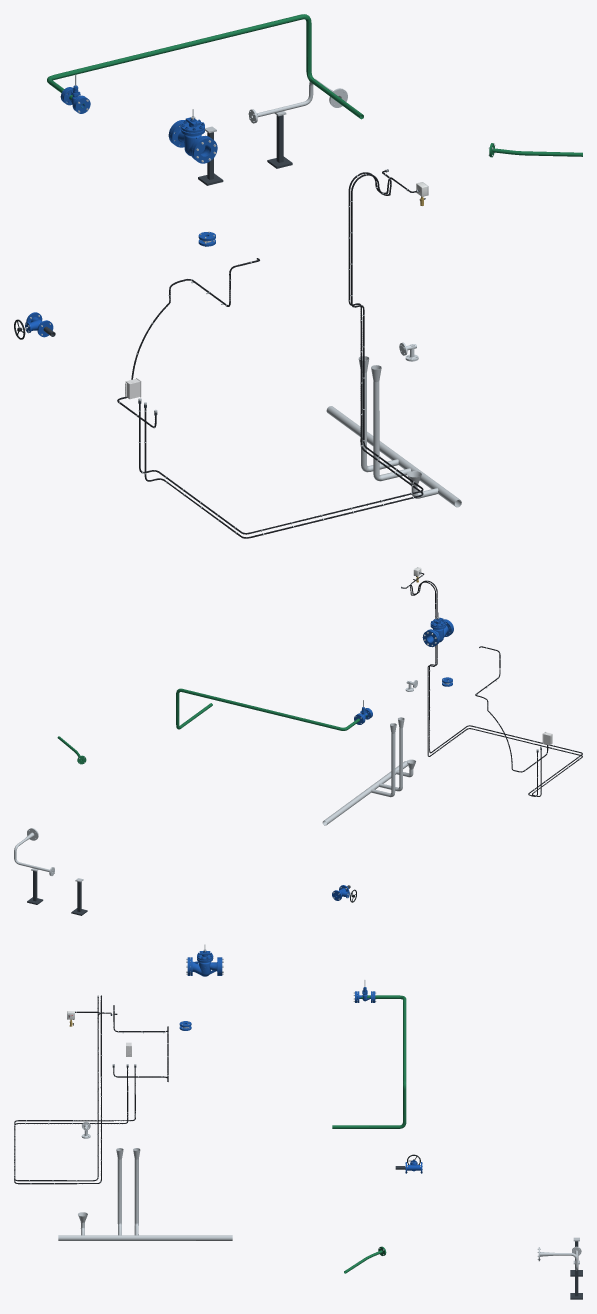
File: s4000-5-BQ4gEaM4.glb
3 views of the same model, one above another, from view 1: azimuth 30°, elevation 25°; view 2: azimuth 150°, elevation 25°; view 3: azimuth 270°, elevation 25° (orthographic). The views are drawn at different scales.
Parts seen in each view (by area): view 1: local_open_drains / steel, to_direct / green, wiring_pressure_switch_1 / black, wiring_pressure_switch_3 / black, gpz CAD solid 0, trap_support / dark, fv_to_trap_gap / steel, wiring_high_level / black; view 2: local_open_drains / steel, to_direct / green, wiring_pressure_switch_1 / black, wiring_pressure_switch_3 / black; view 3: local_open_drains / steel, wiring_pressure_switch_3 / black, to_direct / green, wiring_pressure_switch_1 / black, gpz CAD solid 0.
Part boxes in pixels (box(x1,y1,x2,y2)): local_open_drains / steel: box(326, 356, 461, 507); to_direct / green: box(47, 14, 363, 119); wiring_pressure_switch_1 / black: box(144, 172, 423, 538); wiring_pressure_switch_3 / black: box(139, 170, 423, 534); gpz CAD solid 0: box(170, 109, 210, 159); trap_support / dark: box(198, 115, 292, 185); fv_to_trap_gap / steel: box(248, 78, 347, 123); wiring_high_level / black: box(117, 258, 259, 427); local_open_drains / steel: box(322, 717, 416, 825); to_direct / green: box(176, 688, 359, 730); wiring_pressure_switch_1 / black: box(410, 572, 582, 796); wiring_pressure_switch_3 / black: box(402, 580, 582, 796); local_open_drains / steel: box(58, 1148, 232, 1240); wiring_pressure_switch_3 / black: box(14, 995, 135, 1181); to_direct / green: box(332, 995, 406, 1128); wiring_pressure_switch_1 / black: box(14, 995, 128, 1184); gpz CAD solid 0: box(190, 944, 219, 976).
Size of the model in its own units: 5.75 by 3.2 by 6.75.
